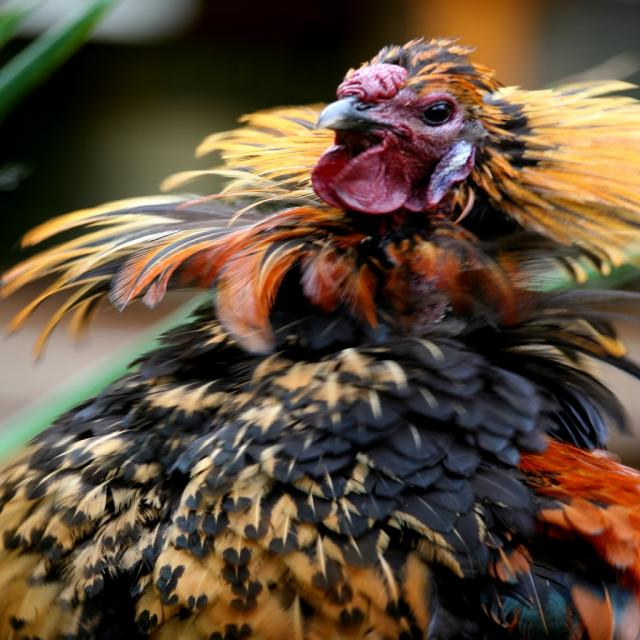Chicken: (30, 58, 614, 624)
